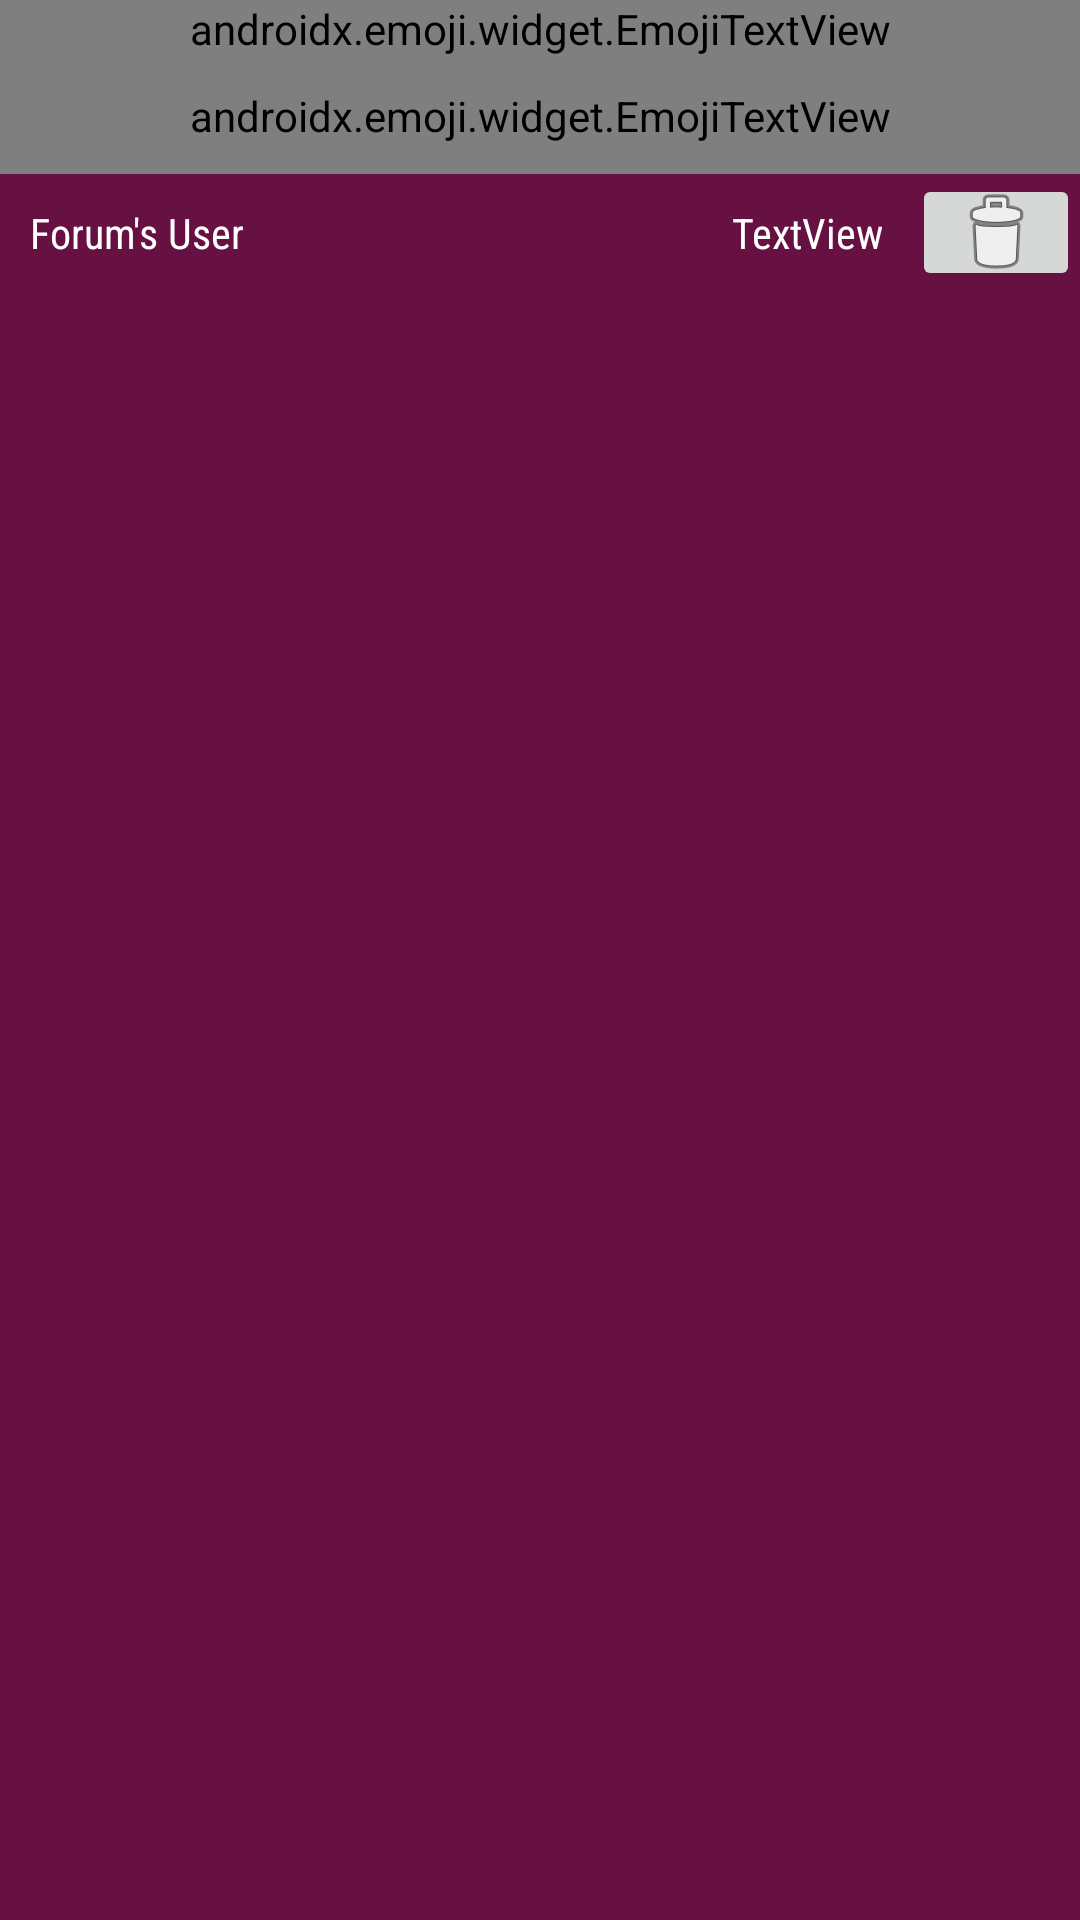

Point at icon controls on the screen. Image size 1080×1920, points as (x,y).
delete: (996,232)
